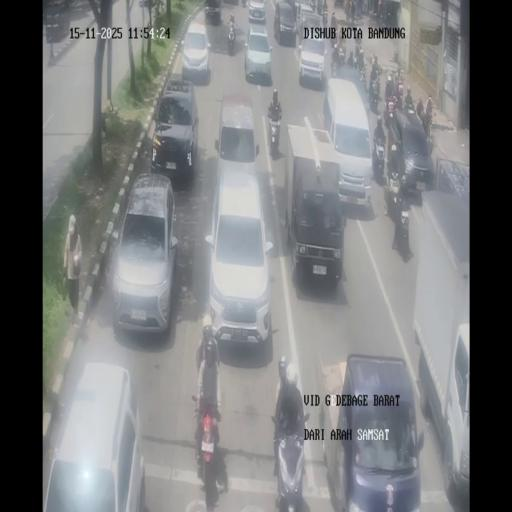3: (411, 197, 469, 501), (284, 120, 345, 292), (436, 158, 469, 208), (43, 2, 65, 42)
car: (324, 354, 422, 510), (42, 361, 144, 509), (206, 166, 272, 350), (110, 173, 178, 336), (150, 76, 198, 181), (387, 106, 434, 196), (216, 91, 258, 171), (181, 22, 210, 82), (298, 33, 328, 88), (244, 27, 272, 84), (273, 1, 296, 45), (294, 1, 316, 36), (248, 0, 266, 24), (204, 1, 222, 25)
truck: (190, 388, 226, 505), (273, 406, 308, 510), (386, 173, 404, 225), (196, 338, 219, 378), (268, 107, 282, 152), (372, 135, 386, 180), (369, 78, 380, 111), (384, 99, 396, 129), (227, 20, 236, 55), (358, 57, 368, 88), (330, 52, 340, 78), (420, 112, 430, 138), (372, 56, 382, 80), (394, 89, 404, 110), (404, 99, 416, 115), (329, 10, 337, 34), (152, 0, 164, 16), (338, 45, 346, 68), (354, 42, 361, 65), (345, 0, 352, 23), (378, 1, 385, 23), (331, 29, 339, 47), (396, 63, 402, 83), (347, 52, 354, 68), (322, 9, 328, 27), (316, 0, 322, 14), (309, 0, 316, 12), (241, 0, 247, 8)
